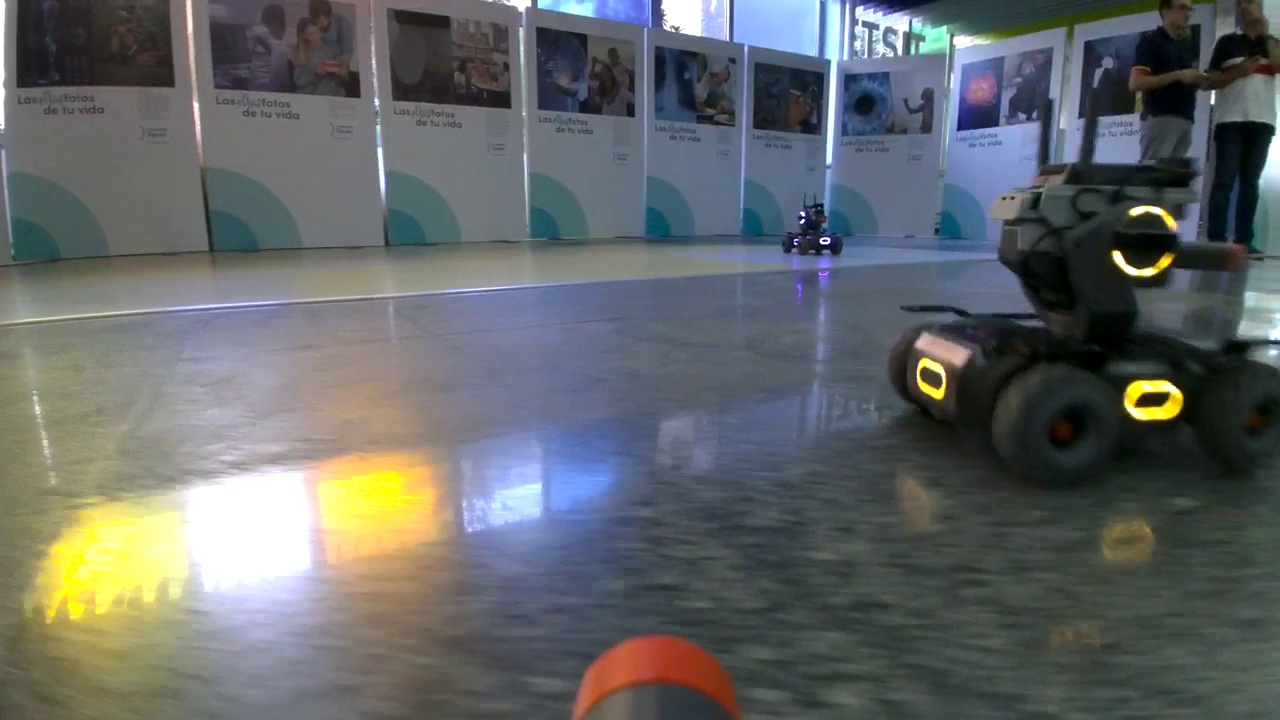robot: (887, 161, 1280, 487), (781, 193, 849, 256)
